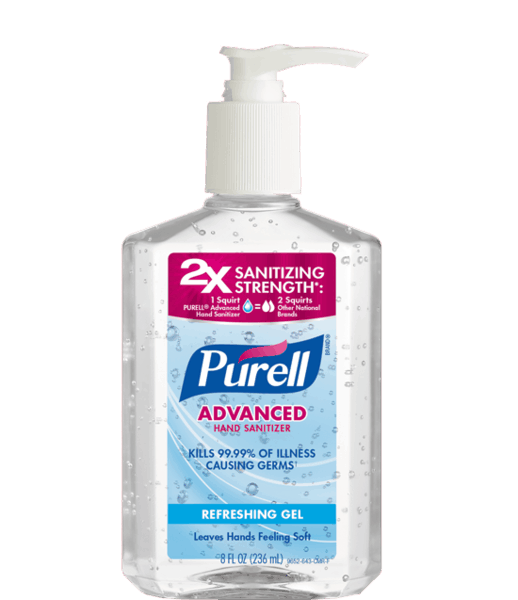Sanitizer: (112, 37, 392, 600)
